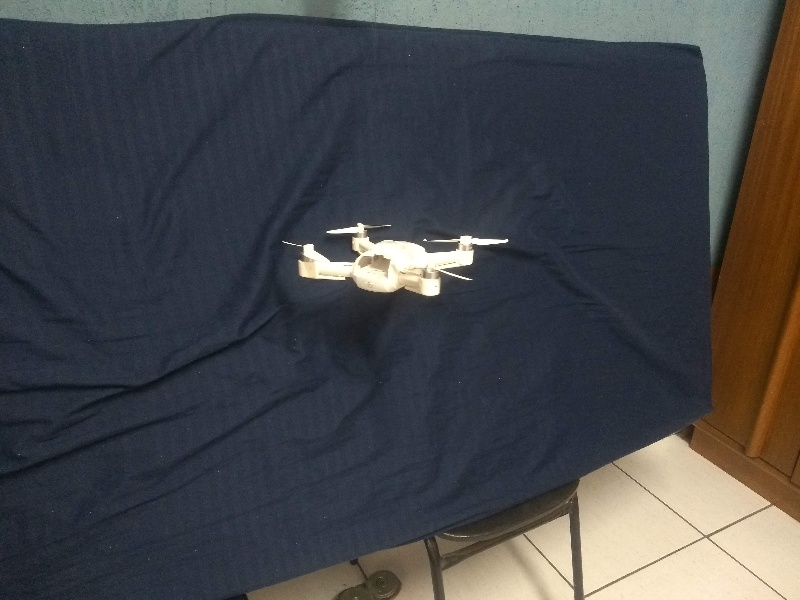drone: (285, 206, 517, 300)
